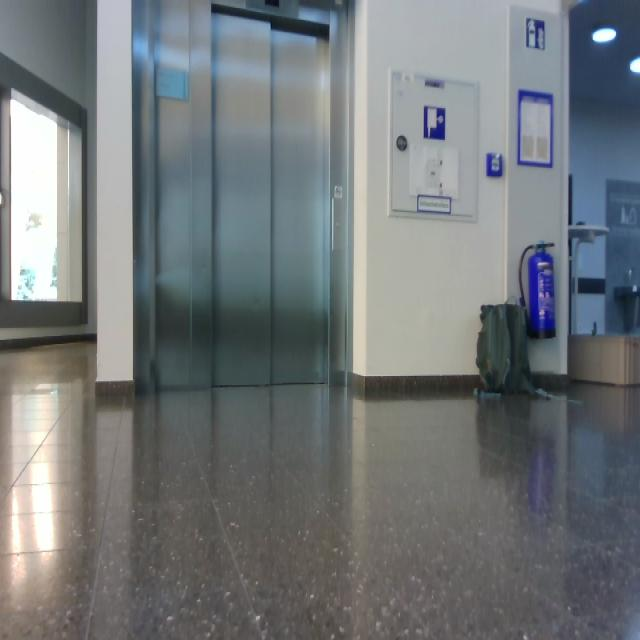door: (132, 1, 351, 393)
fire extinguisher: (519, 241, 556, 340)
light bulb: (592, 26, 617, 44), (27, 212, 43, 232), (629, 56, 640, 74)
tiled floor: (2, 340, 639, 638)
window: (7, 88, 85, 308)
